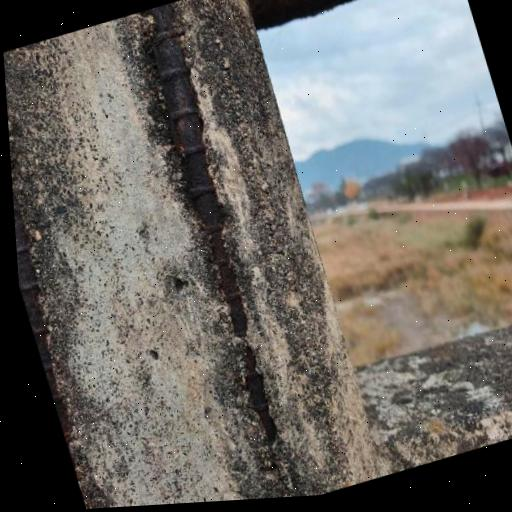exposed_rebar: (152, 4, 247, 340), (12, 183, 76, 470), (245, 343, 276, 442)
